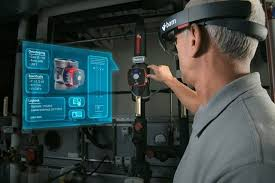hololens: (158, 2, 268, 53)
